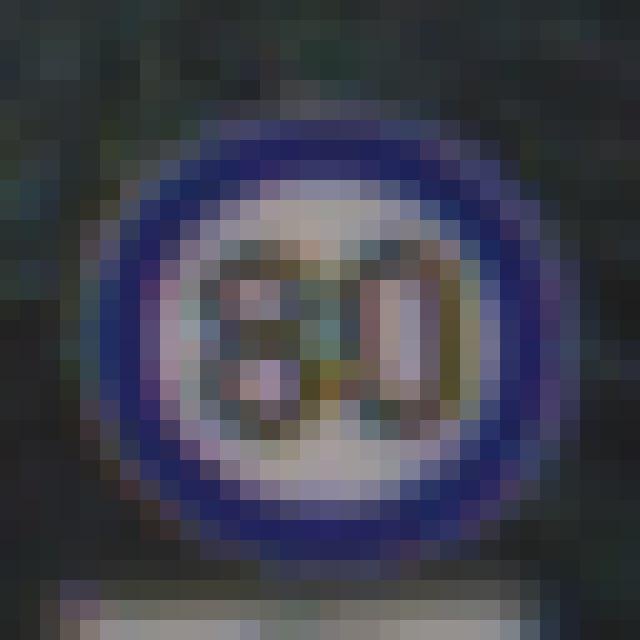SPEED-LIMIT-80: (80, 125, 566, 543)
